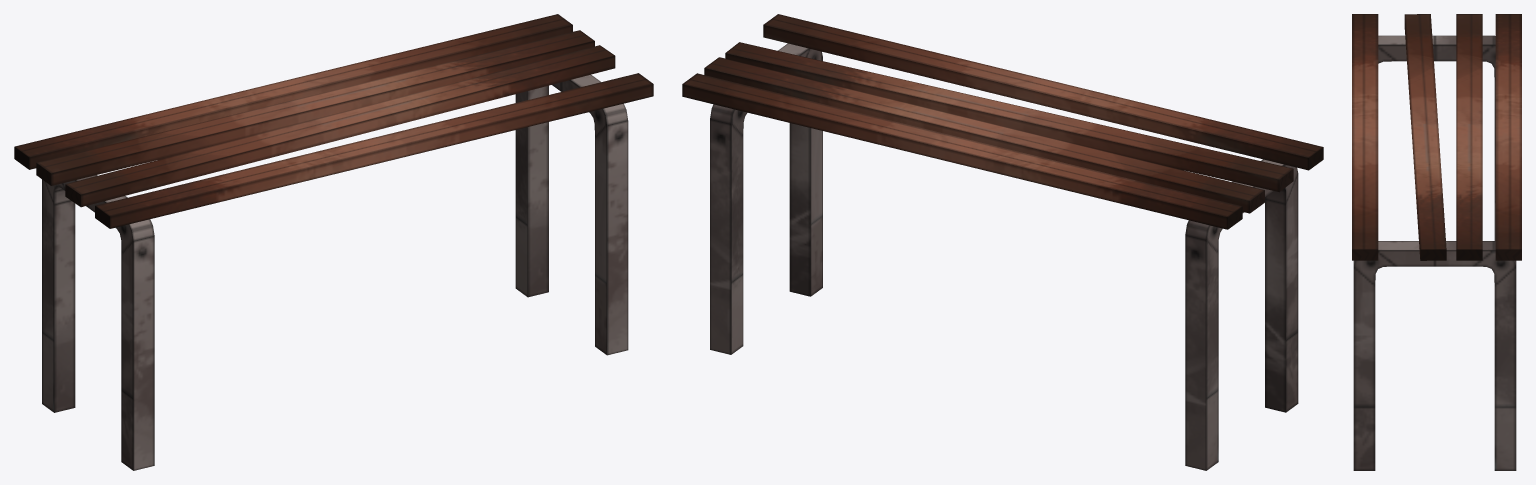
File: Bench1BrokenEditable.fbx
The picture shows the model from 3 angles, left to right: view 1: azimuth 30°, elevation 25°; view 2: azimuth 150°, elevation 25°; view 3: azimuth 270°, elevation 25°; orthographic projection. The views are drawn at different scales.
Parts seen in each view (by area): view 1: BenchBroken2, BenchBroken2.001, BenchBroken2.002, BenchBroken2.003, BenchBroken2.004; view 2: BenchBroken2, BenchBroken2.004, BenchBroken2.001, BenchBroken2.002, BenchBroken2.003; view 3: BenchBroken2, BenchBroken2.004, BenchBroken2.002, BenchBroken2.001, BenchBroken2.003.
Boxes of the visible parts, <box> form: BenchBroken2: <box>36,74,628,470</box>; BenchBroken2.001: <box>95,73,653,228</box>; BenchBroken2.002: <box>65,45,615,207</box>; BenchBroken2.003: <box>37,30,594,185</box>; BenchBroken2.004: <box>14,14,572,169</box>; BenchBroken2: <box>710,43,1323,470</box>; BenchBroken2.004: <box>682,73,1242,229</box>; BenchBroken2.001: <box>763,14,1323,170</box>; BenchBroken2.002: <box>725,42,1292,192</box>; BenchBroken2.003: <box>704,57,1264,213</box>; BenchBroken2: <box>1352,35,1516,470</box>; BenchBroken2.004: <box>1495,14,1521,260</box>; BenchBroken2.002: <box>1404,14,1446,258</box>; BenchBroken2.001: <box>1352,14,1378,249</box>; BenchBroken2.003: <box>1456,14,1482,249</box>.
Size of the model in its own units: 103 by 31.35 by 47.26.
